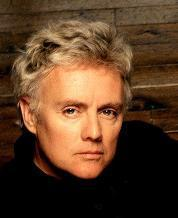face: (58, 97, 125, 162)
